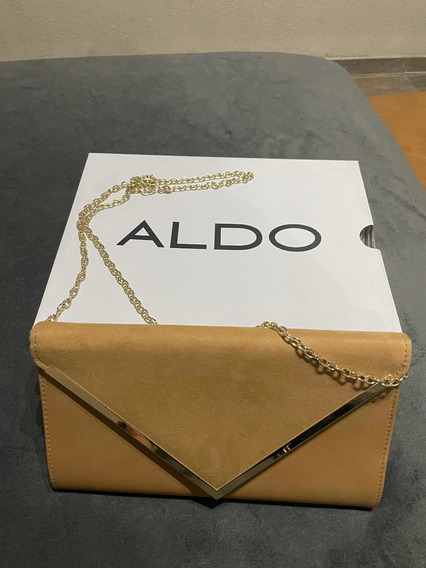cartera: (28, 315, 413, 514)
